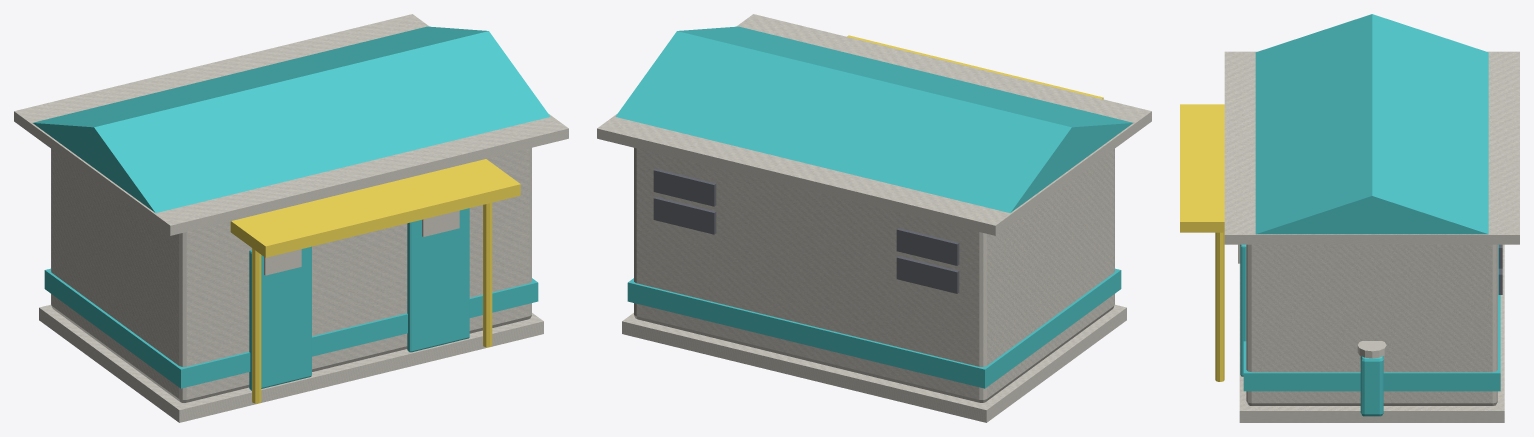
File: theme-park-rides-and-coasters-theme-park-rides-and-coa-af17b9f3__28718.glb
The picture shows the model from 3 angles, left to right: view 1: azimuth 30°, elevation 25°; view 2: azimuth 150°, elevation 25°; view 3: azimuth 270°, elevation 25°; orthographic projection. The views are drawn at different scales.
Parts seen in each view (by area): view 1: theme-park-rides-and-coasters-park-toilet-block; view 2: theme-park-rides-and-coasters-park-toilet-block; view 3: theme-park-rides-and-coasters-park-toilet-block.
Boxes of the visible parts, bbox=[...] form: theme-park-rides-and-coasters-park-toilet-block: bbox=[14, 14, 568, 422]; theme-park-rides-and-coasters-park-toilet-block: bbox=[597, 14, 1151, 422]; theme-park-rides-and-coasters-park-toilet-block: bbox=[1180, 14, 1519, 422].
Bounding box in the file's own units: 6.56 × 3.9 × 5.13.
Materials: 4 (1 with a texture image).
